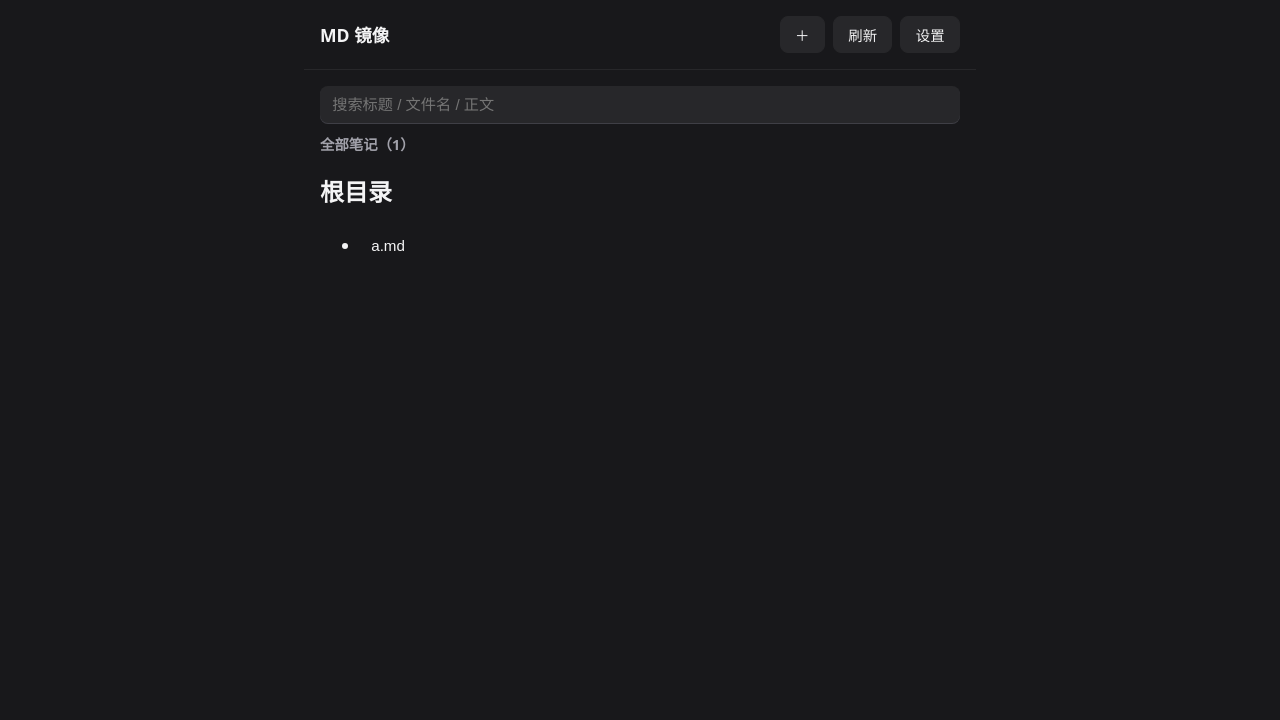
Test: 27 · 新建笔记（App 集成） › 401：显示与票 26 一致的令牌无效提示
This screenshot has width=1280, height=720.
Click the button "＋" at (802, 35), box [780,16,825,53]
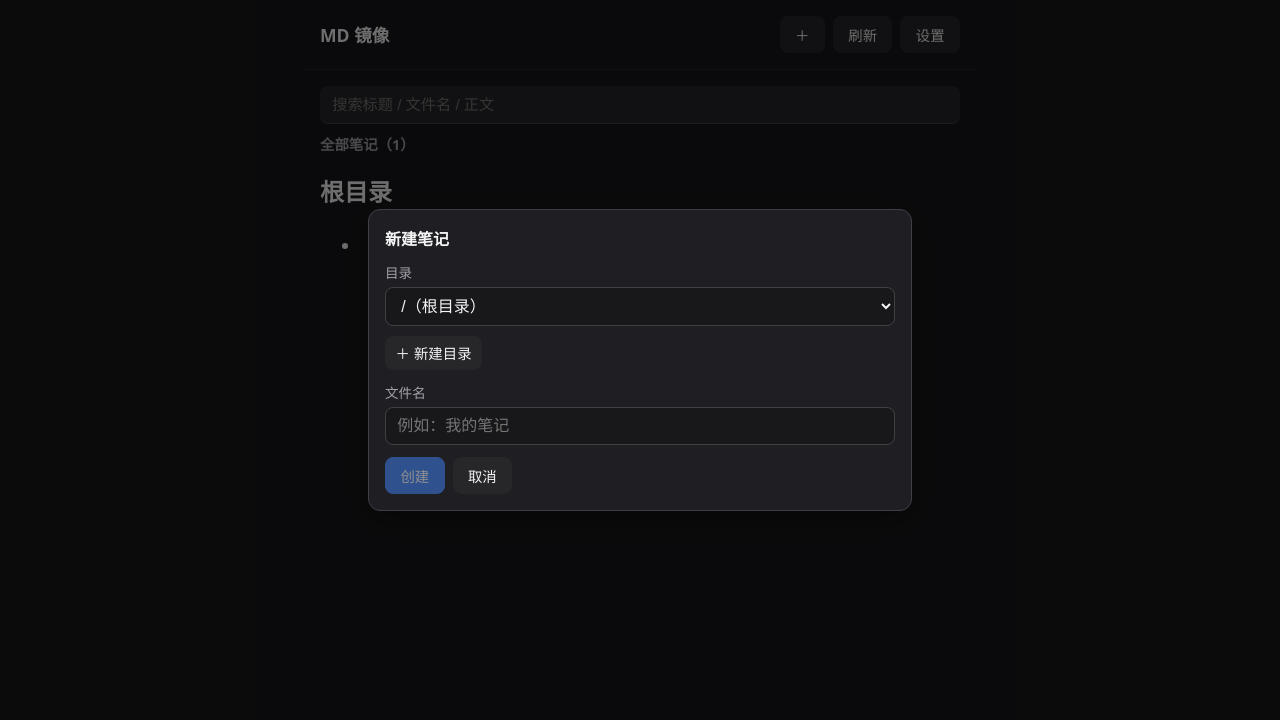
Type "新篇" into the field with class "new-note__input" at (640, 426), box [385,407,895,445]
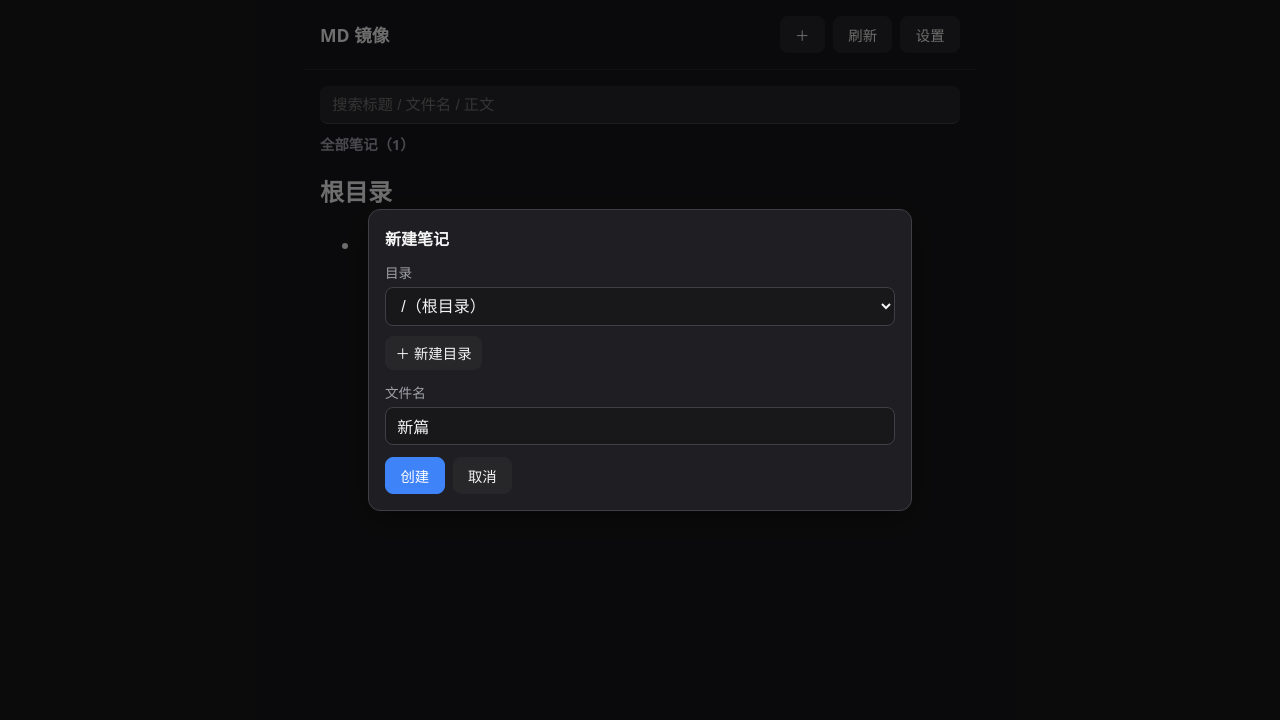
Click the button "创建" at (415, 476), box [385,457,445,494]
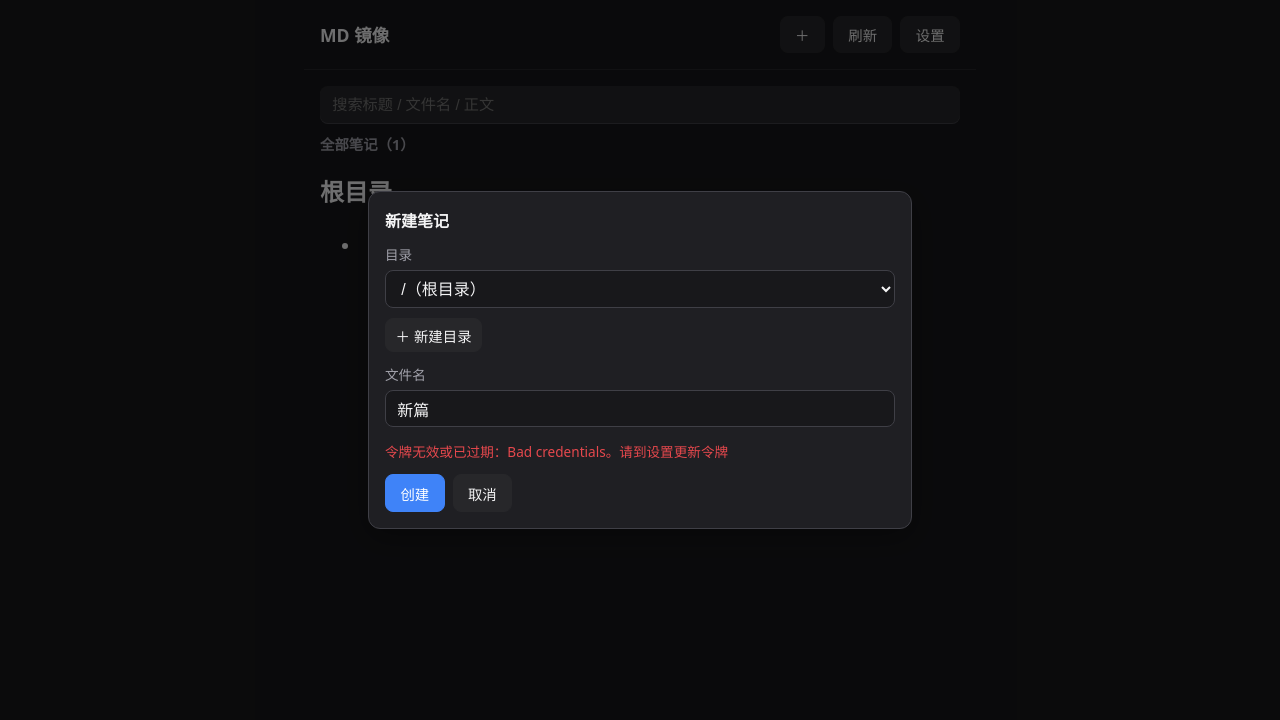
Check: the element with class "new-note" is shown, box [368,191,912,529]
Check: the text "Bad credentials" is shown, box [385,442,728,461]
